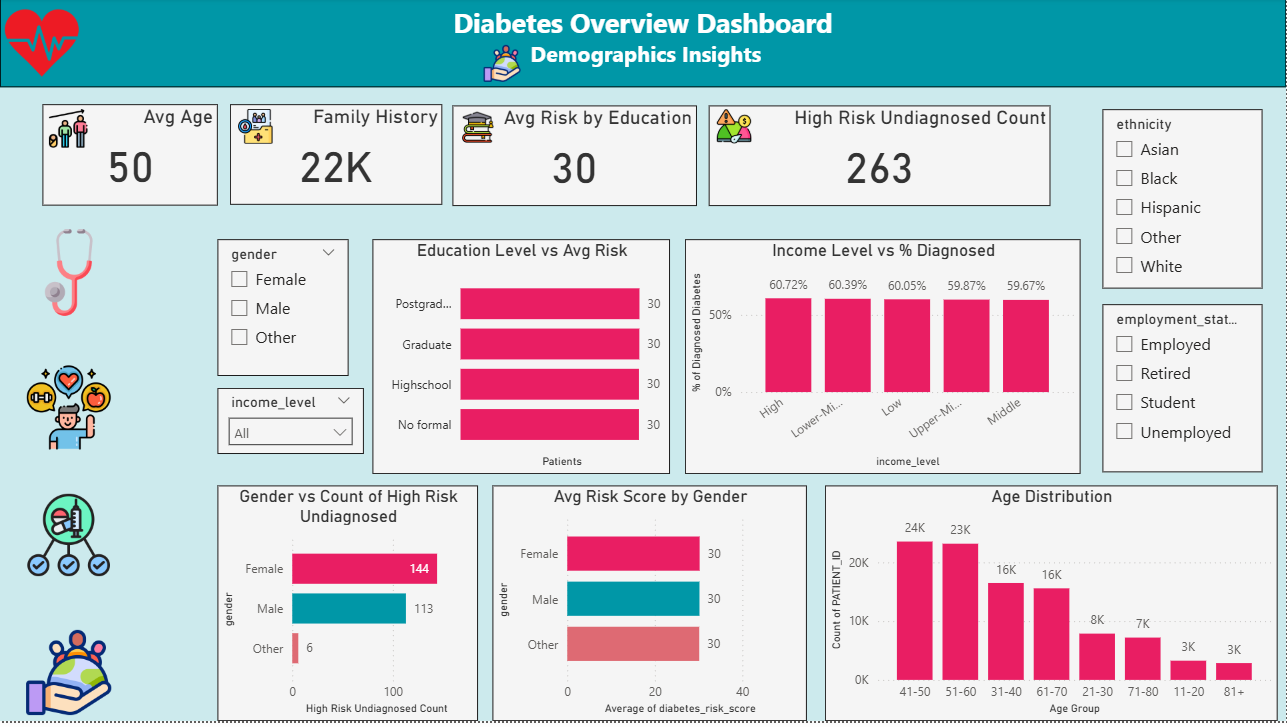

What the dashboard file says about the page in this screenshot:
{"tool":"powerbi","page":{"name":"Demographics","canvas":[1280,720],"ordinal":3},"visuals":[{"type":"textbox","box":[0,0,1280,88.9],"z":0,"group":"g1"},{"type":"image","box":[20.6,225,94.7,96.1],"z":0,"group":"g2"},{"type":"barChart","title":"Education Level vs Avg Risk","fields":{"Category":["diabetes diabetes_dataset.education_level"],"Y":["Avg(diabetes diabetes_dataset.diabetes_risk_score)"]},"box":[370.5,240.1,296.4,233.3],"z":0},{"type":"image","box":[0,0,83.8,88.9],"z":1000,"group":"g1"},{"type":"card","title":"Avg Age","fields":{"Values":["Avg(diabetes diabetes_dataset.age)"]},"box":[42.3,105.7,174.2,100.8],"z":1000},{"type":"image","box":[20.6,359.5,94.7,96.1],"z":1000,"group":"g2"},{"type":"clusteredColumnChart","title":"Income Level vs % Diagnosed","fields":{"Category":["diabetes diabetes_dataset.income_level"],"Y":["diabetes diabetes_dataset.% of Diagnosed Diabetes"]},"box":[682,240.1,393.8,233.3],"z":2000},{"type":"image","box":[20.6,485.7,94.7,96.1],"z":2000,"group":"g2"},{"type":"card","title":"Avg Risk by Education","fields":{"Values":["diabetes diabetes_dataset.Avg Risk by Education"]},"box":[450.1,107,242.9,100.2],"z":3000},{"type":"image","box":[20.6,622.9,94.7,96.1],"z":3000,"group":"g2"},{"type":"clusteredColumnChart","title":"Age Distribution","fields":{"Category":["diabetes diabetes_dataset.Age Group"],"Y":["CountNonNull(diabetes diabetes_dataset.PATIENT_ID)"]},"box":[820.6,485.8,450.1,234.6],"z":4000},{"type":"group","id":"g1","title":"Group 1","box":[0,0,1280,88.9],"z":5000},{"type":"barChart","title":"Avg Risk Score by Gender","fields":{"Category":["diabetes diabetes_dataset.gender"],"Y":["Avg(diabetes diabetes_dataset.diabetes_risk_score)"]},"box":[489.9,485.8,312.9,234.6],"z":6000},{"type":"card","title":"Family History ","fields":{"Values":["Sum(diabetes diabetes_dataset.family_history_diabetes)"]},"box":[229.2,105.7,211.3,100.2],"z":7000},{"type":"slicer","fields":{"Values":["diabetes diabetes_dataset.ethnicity"]},"box":[1097.8,111.1,159.2,178.4],"z":8000},{"type":"slicer","fields":{"Values":["diabetes diabetes_dataset.employment_status"]},"box":[1097.8,304.6,159.2,167.4],"z":9000},{"type":"barChart","title":"Gender vs Count of High Risk Undiagnosed","fields":{"Category":["diabetes diabetes_dataset.gender"],"Y":["diabetes diabetes_dataset.High Risk Undiagnosed Count"]},"box":[216.8,485.8,259.3,234.6],"z":10000},{"type":"slicer","fields":{"Values":["diabetes diabetes_dataset.income_level"]},"box":[216.8,388.3,145.5,65.9],"z":11000},{"type":"card","title":"High Risk Undiagnosed Count","fields":{"Values":["diabetes diabetes_dataset.High Risk Undiagnosed Count"]},"box":[705.3,107,340.3,100.2],"z":12000},{"type":"image","box":[476.2,41.2,46.7,48],"z":13000},{"type":"image","box":[42.5,105.7,50.8,48],"z":14000},{"type":"slicer","fields":{"Values":["diabetes diabetes_dataset.gender"]},"box":[216.8,240.1,130.4,135.8],"z":15000},{"type":"image","box":[229.2,105.7,50.8,43.9],"z":16000},{"type":"image","box":[450.1,108.4,50.8,41.2],"z":17000},{"type":"image","box":[705.3,105.7,50.8,43.9],"z":18000},{"type":"group","id":"g2","title":"Group 2","box":[20.6,225,94.7,494],"z":19000}]}

Visuals, with their boxes in screenshot pixels (x1, y1, x2, y2), scaled from the page's 1280x720 canvas onto the 1287x727 screenshot:
textbox: [left=0, top=0, right=1286, bottom=90]
image: [left=21, top=227, right=116, bottom=324]
"Education Level vs Avg Risk" barChart: [left=373, top=242, right=671, bottom=478]
image: [left=0, top=0, right=84, bottom=90]
"Avg Age" card: [left=43, top=107, right=218, bottom=209]
image: [left=21, top=363, right=116, bottom=460]
"Income Level vs % Diagnosed" clusteredColumnChart: [left=686, top=242, right=1082, bottom=478]
image: [left=21, top=490, right=116, bottom=587]
"Avg Risk by Education" card: [left=453, top=108, right=697, bottom=209]
image: [left=21, top=629, right=116, bottom=726]
"Age Distribution" clusteredColumnChart: [left=825, top=491, right=1278, bottom=726]
"Group 1" group: [left=0, top=0, right=1286, bottom=90]
"Avg Risk Score by Gender" barChart: [left=493, top=491, right=807, bottom=726]
"Family History " card: [left=230, top=107, right=443, bottom=208]
slicer - diabetes diabetes_dataset.ethnicity: [left=1104, top=112, right=1264, bottom=292]
slicer - diabetes diabetes_dataset.employment_status: [left=1104, top=308, right=1264, bottom=477]
"Gender vs Count of High Risk Undiagnosed" barChart: [left=218, top=491, right=479, bottom=726]
slicer - diabetes diabetes_dataset.income_level: [left=218, top=392, right=364, bottom=459]
"High Risk Undiagnosed Count" card: [left=709, top=108, right=1051, bottom=209]
image: [left=479, top=42, right=526, bottom=90]
image: [left=43, top=107, right=94, bottom=155]
slicer - diabetes diabetes_dataset.gender: [left=218, top=242, right=349, bottom=380]
image: [left=230, top=107, right=282, bottom=151]
image: [left=453, top=109, right=504, bottom=151]
image: [left=709, top=107, right=760, bottom=151]
"Group 2" group: [left=21, top=227, right=116, bottom=726]
